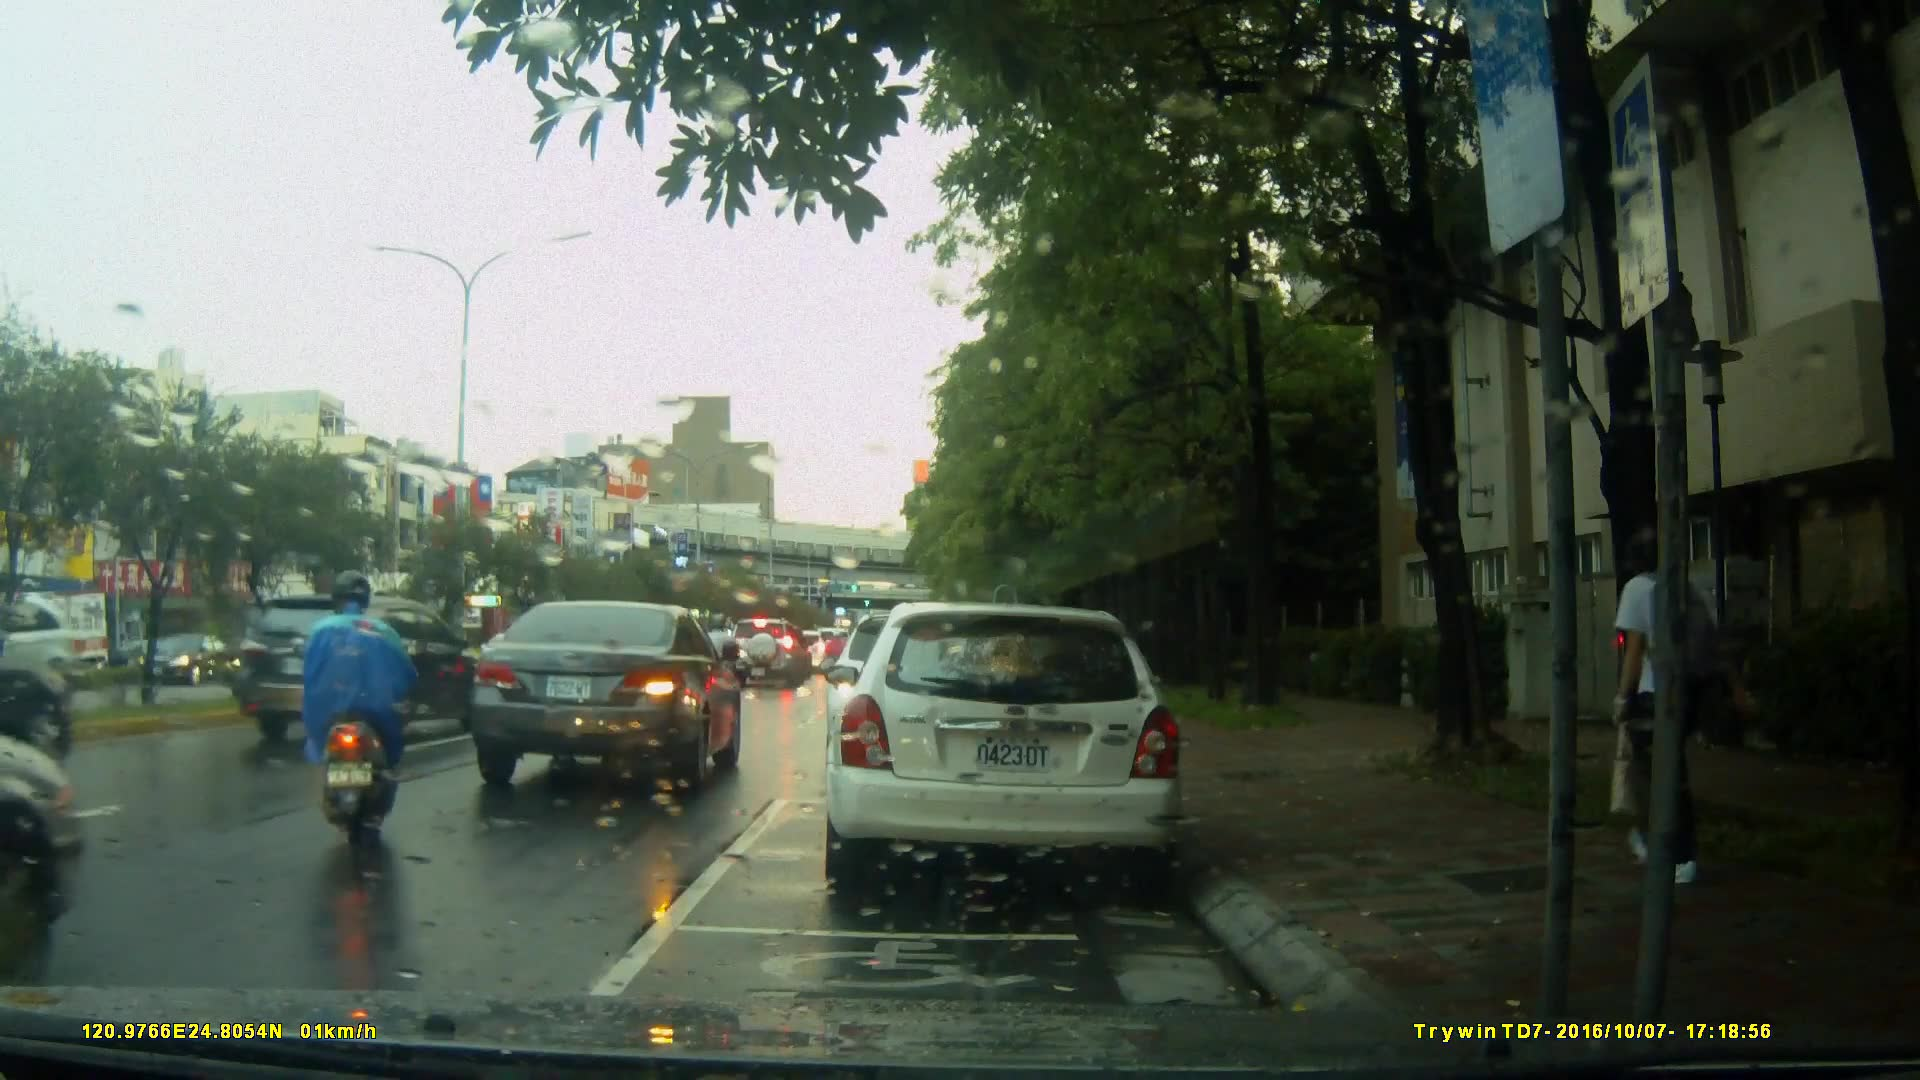pedestrian: (1582, 512, 1729, 884)
rider: (309, 568, 422, 849), (695, 611, 742, 706), (826, 626, 860, 698)
vehicle: (820, 602, 1188, 898), (471, 599, 746, 795), (231, 593, 494, 749), (729, 617, 812, 691)
